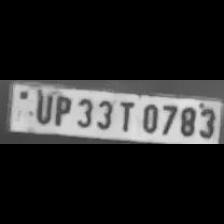0: (137, 100, 159, 134)
3: (72, 96, 94, 128), (94, 96, 114, 130), (196, 104, 216, 138)
7: (158, 102, 176, 136)
8: (177, 103, 197, 137)
P: (50, 93, 72, 127)
T: (116, 99, 136, 133)
U: (30, 90, 52, 124)
